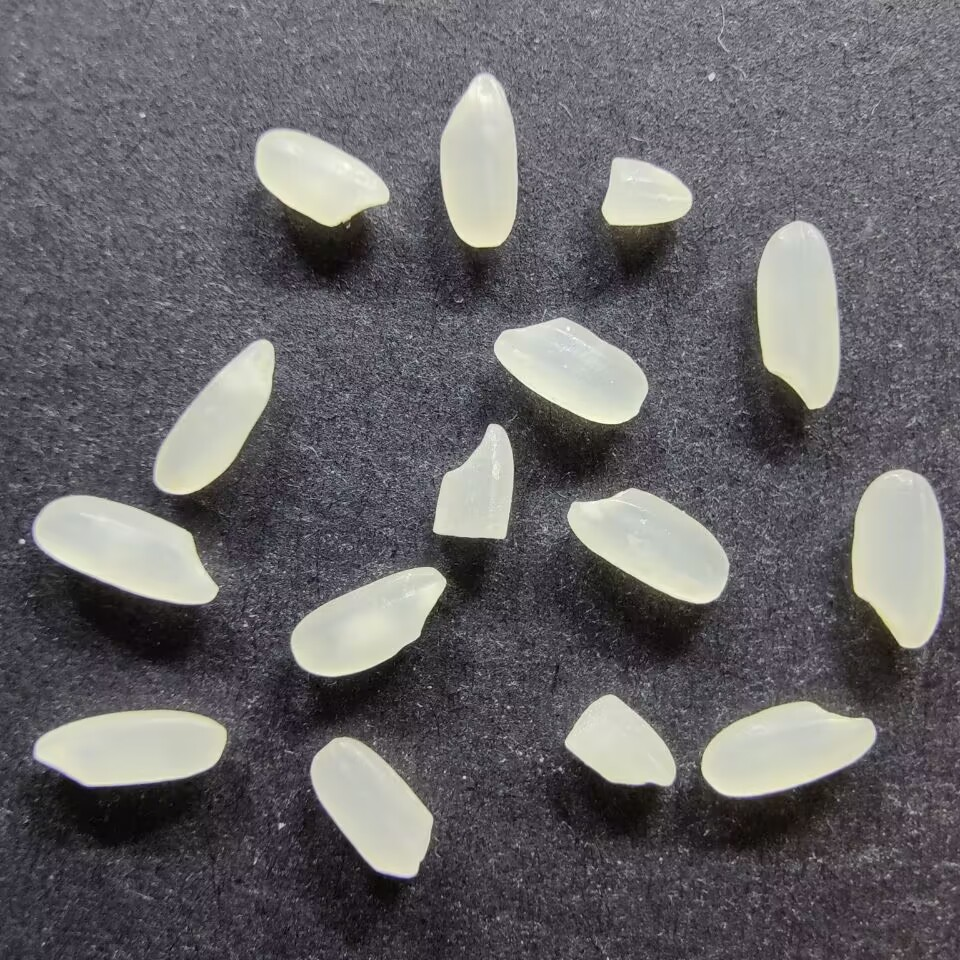broken: (561, 692, 681, 789), (430, 420, 514, 541), (599, 156, 694, 228)
rice: (31, 493, 220, 607), (152, 336, 276, 496), (566, 487, 730, 604), (309, 736, 435, 883), (289, 564, 446, 677), (849, 469, 946, 650), (701, 699, 876, 797), (754, 218, 842, 410), (493, 317, 648, 426), (30, 707, 228, 789), (437, 72, 519, 247), (253, 127, 390, 228)
